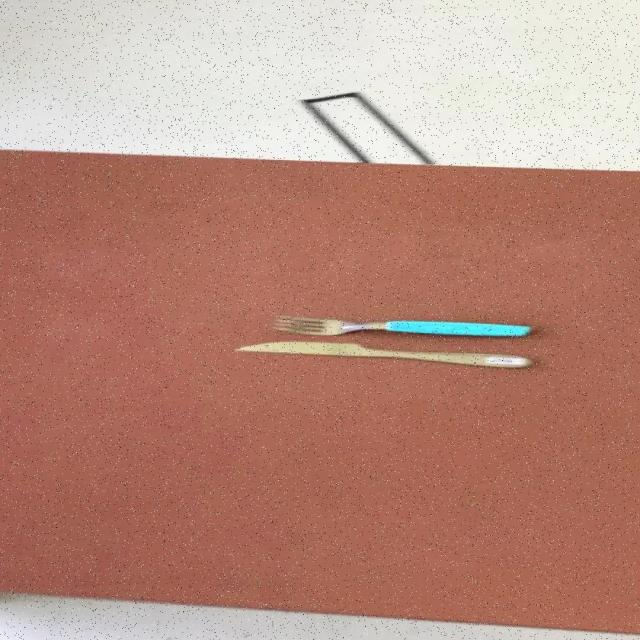Fork: (234, 340, 536, 368), (274, 314, 535, 337)
Knife: (234, 340, 536, 368), (273, 314, 535, 337)
